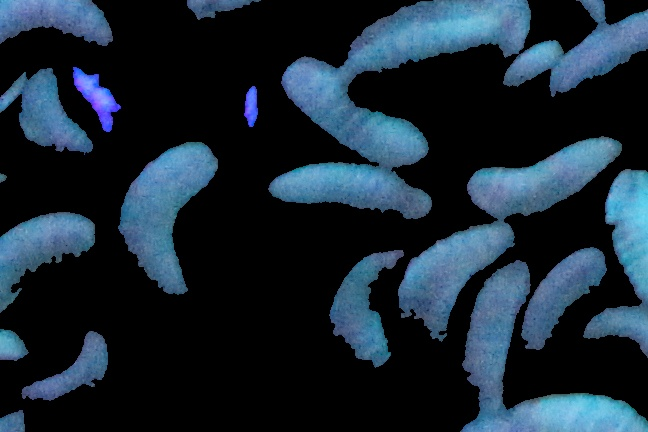larvae: (286, 61, 431, 161), (120, 150, 202, 321), (398, 225, 513, 340), (346, 1, 531, 71), (465, 141, 625, 220), (317, 243, 402, 378), (266, 165, 431, 223), (460, 253, 531, 382), (2, 209, 97, 305), (549, 13, 648, 99), (468, 384, 644, 432), (523, 245, 602, 345), (1, 1, 110, 68), (26, 328, 112, 406), (602, 157, 648, 302), (18, 69, 91, 154), (585, 308, 648, 357), (505, 35, 562, 87)
